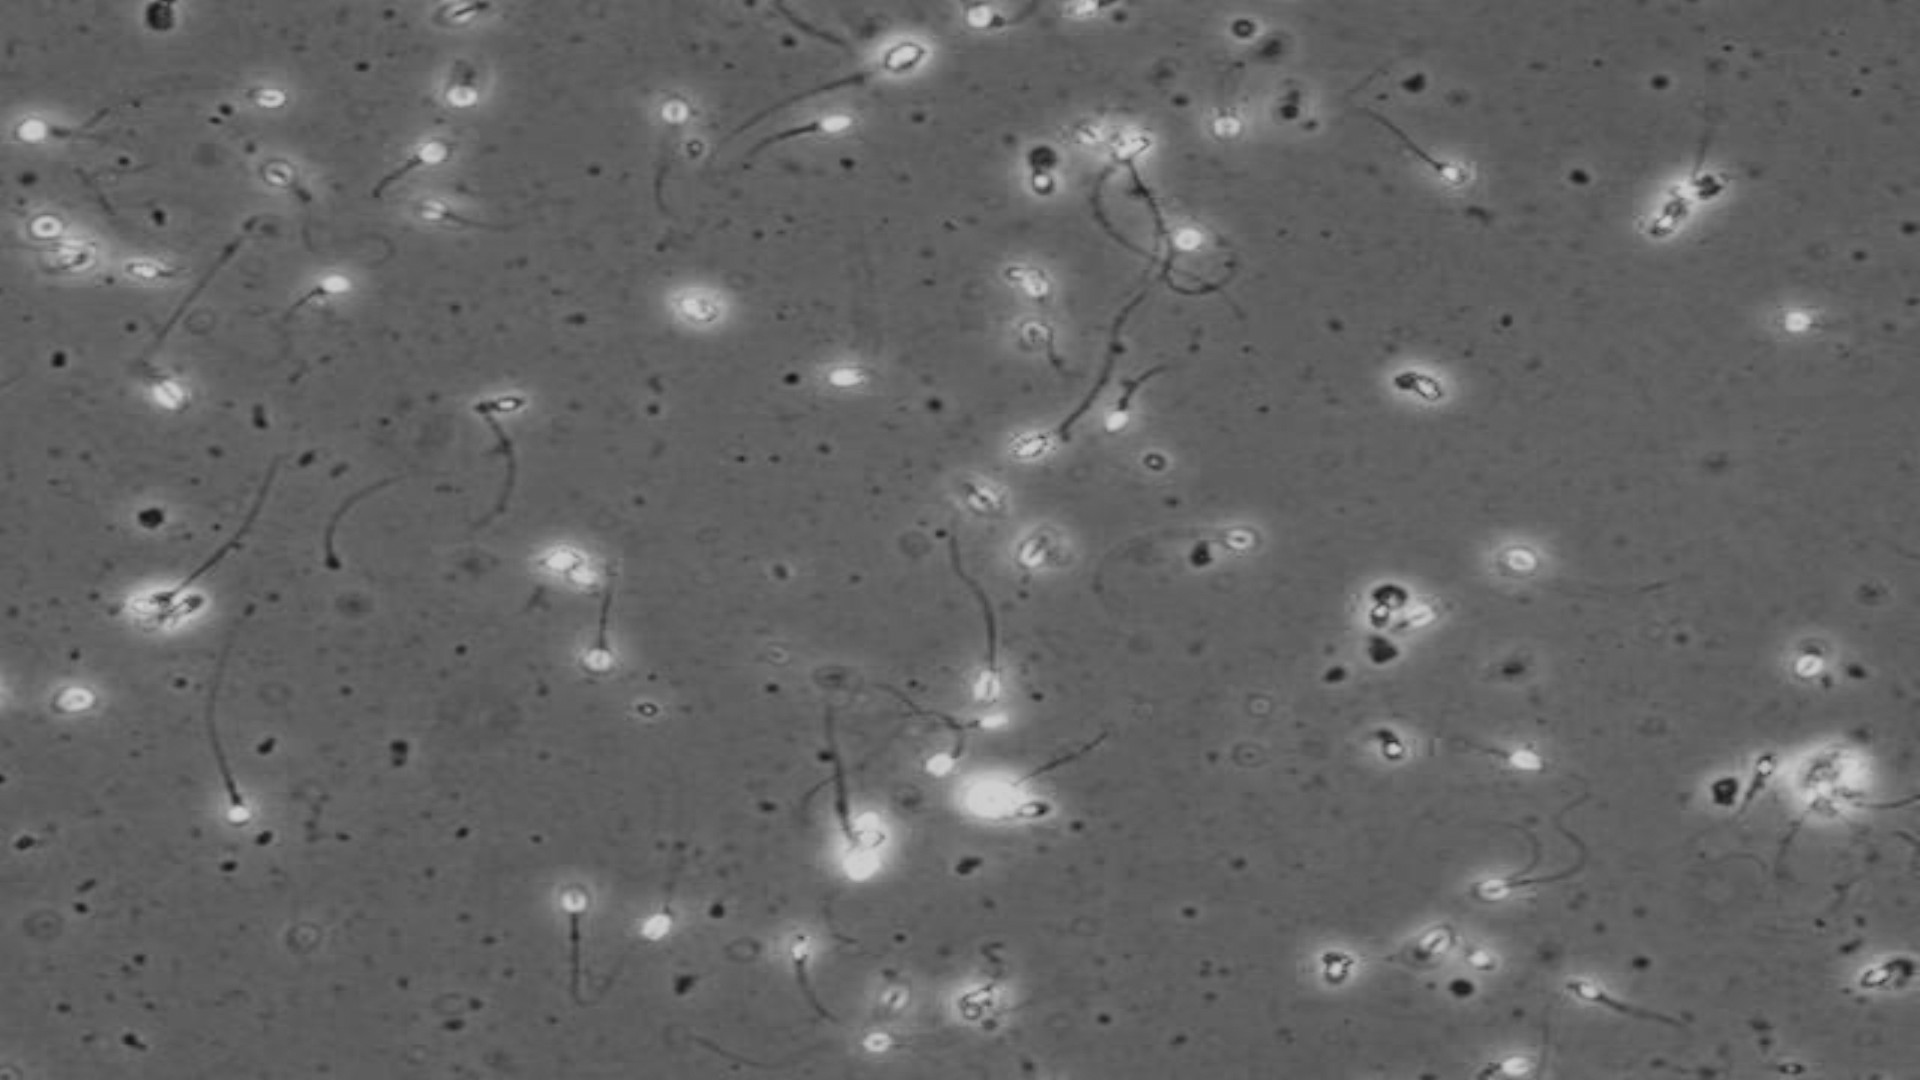sperm: (127, 473, 285, 613), (203, 592, 261, 843), (456, 392, 542, 521), (1464, 828, 1592, 906), (949, 541, 1007, 709), (1567, 968, 1713, 1033), (735, 107, 858, 182), (270, 274, 364, 371), (1364, 109, 1462, 189), (890, 691, 975, 782), (767, 932, 840, 1033), (363, 138, 454, 214), (1452, 717, 1552, 785), (554, 877, 604, 1002), (575, 564, 629, 679), (17, 109, 138, 157), (1104, 367, 1168, 440), (1725, 752, 1782, 831)
